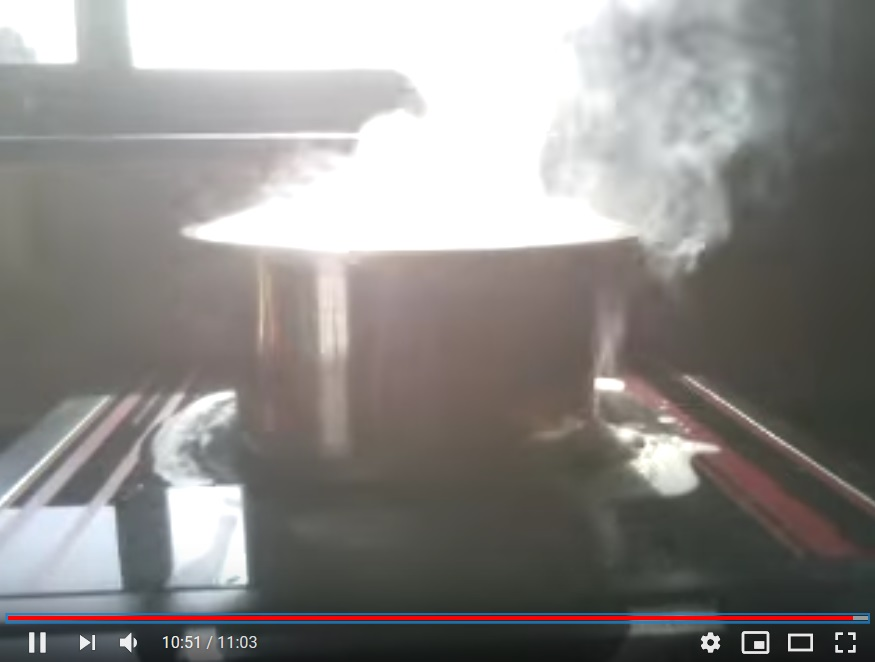Boiled: (157, 123, 698, 488)
